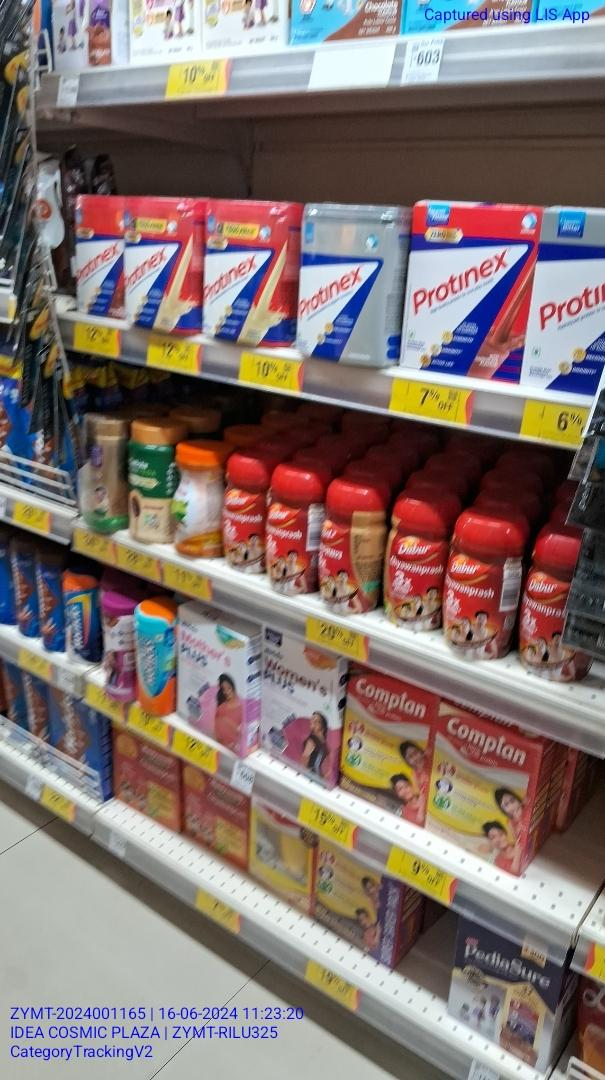HORLICKS_LITE_REGULAR_MALT_500_GM_JAR: (136, 609, 174, 717)
PEDIASURE_CHOCOLATE_500_G_PACK: (453, 923, 557, 1056)
PROTINEX_CHOCOLATE_400_G_JAR: (79, 198, 124, 319)
PROTINEX_ORIGINAL_400_G_JAR: (302, 206, 392, 359)
PROTINEX_VANILLA_400_G_JAR: (203, 194, 295, 341), (118, 203, 197, 325)
